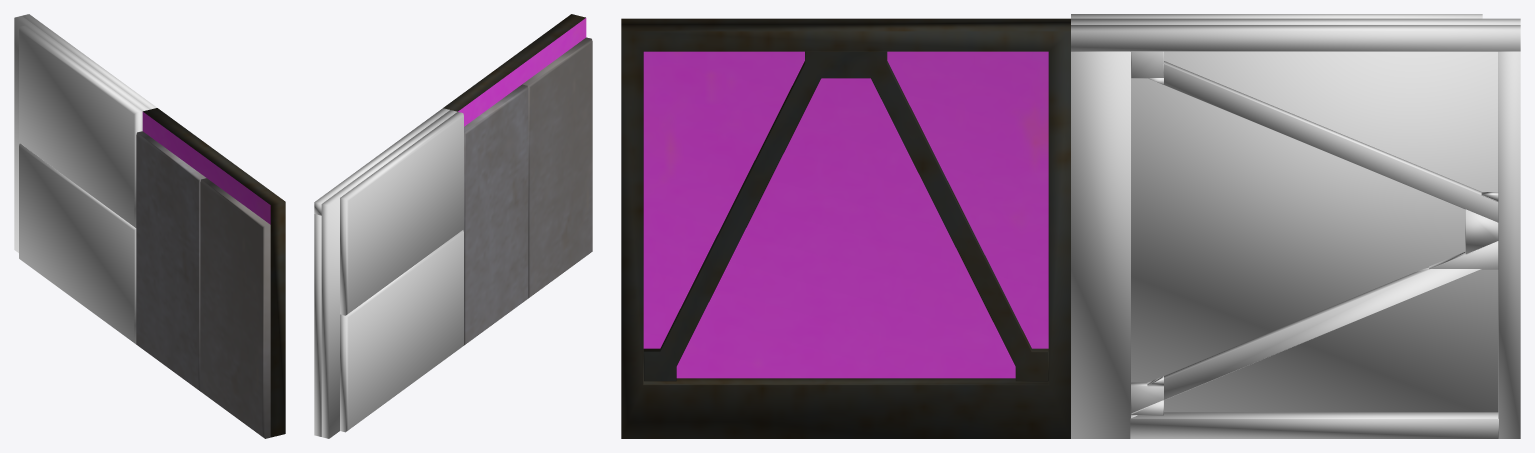
File: SM_Wall_Basic_Small.fbx
The picture shows the model from 3 angles, left to right: view 1: azimuth 30°, elevation 25°; view 2: azimuth 150°, elevation 25°; view 3: azimuth 270°, elevation 25°; orthographic projection. The views are drawn at different scales.
Visible parts, largest first — view 1: SM_Wall_Basic_Small, SM_Wall_Basic_Small_ConvexHulls; view 2: SM_Wall_Basic_Small_ConvexHulls, SM_Wall_Basic_Small; view 3: SM_Wall_Basic_Small_ConvexHulls, SM_Wall_Basic_Small.
Boxes of the visible parts, bbox=[...] form: SM_Wall_Basic_Small: bbox=[136, 108, 285, 438]; SM_Wall_Basic_Small_ConvexHulls: bbox=[14, 14, 156, 344]; SM_Wall_Basic_Small_ConvexHulls: bbox=[314, 108, 463, 438]; SM_Wall_Basic_Small: bbox=[443, 14, 592, 345]; SM_Wall_Basic_Small_ConvexHulls: bbox=[1071, 14, 1520, 438]; SM_Wall_Basic_Small: bbox=[621, 18, 1070, 438].
Size of the model in its own units: 0.3 by 3 by 6.
